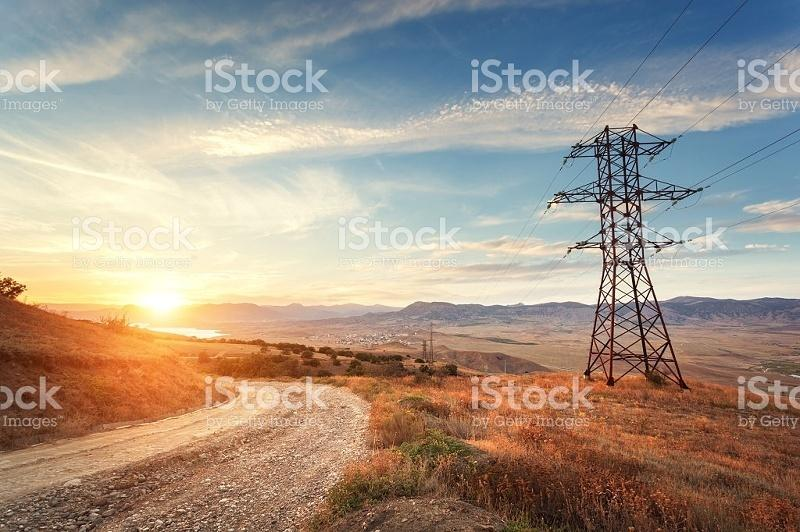power_tower: (547, 123, 720, 381)
